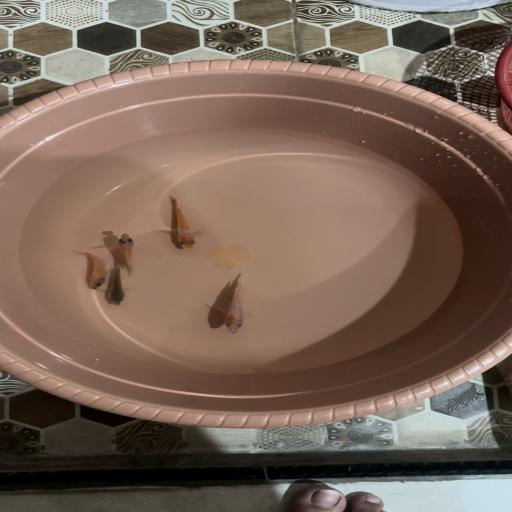nila: (204, 274, 261, 336), (160, 196, 204, 254), (111, 230, 152, 277), (69, 249, 109, 292), (104, 266, 132, 308)
